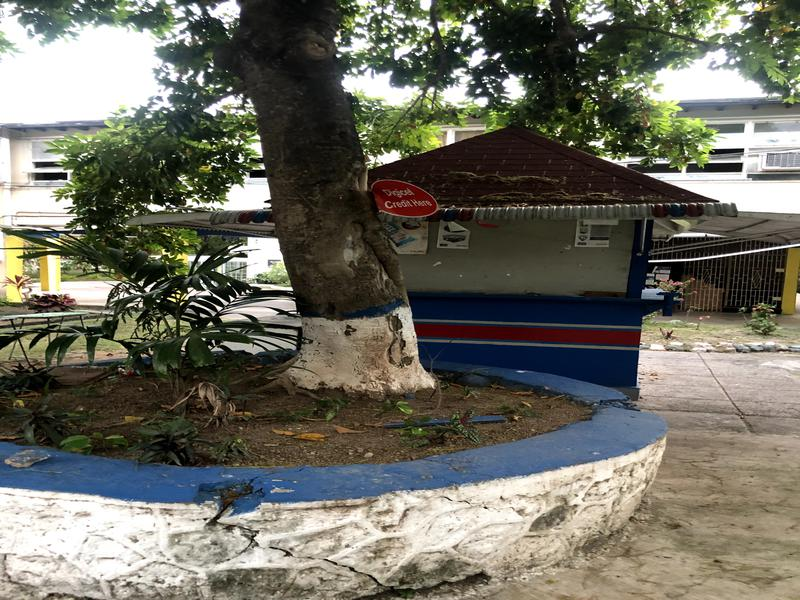18.0050609_-76.7496662_auntyjackie: (353, 116, 669, 398)
